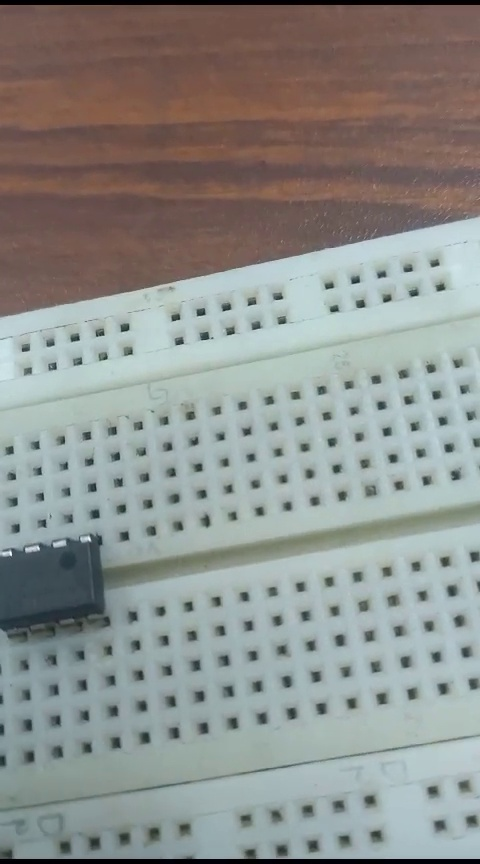IC: (4, 541, 110, 621)
